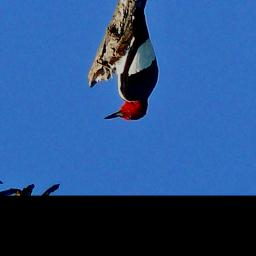Woodpecker: (96, 0, 171, 130)
